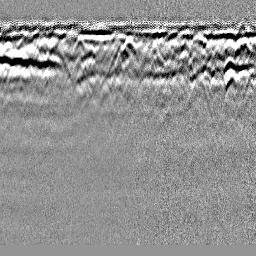cavity: (120, 33, 138, 56)
